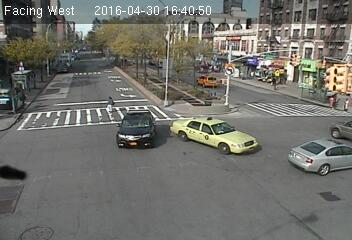neg: (51, 149, 89, 200), (199, 130, 228, 169), (287, 187, 313, 222), (268, 126, 292, 159), (147, 170, 171, 203), (61, 76, 85, 108), (241, 89, 263, 118), (156, 9, 178, 37), (132, 90, 151, 116), (96, 7, 114, 32), (207, 5, 225, 28), (238, 192, 254, 213)
pos: (100, 94, 119, 118), (327, 93, 341, 111), (341, 95, 351, 115)
